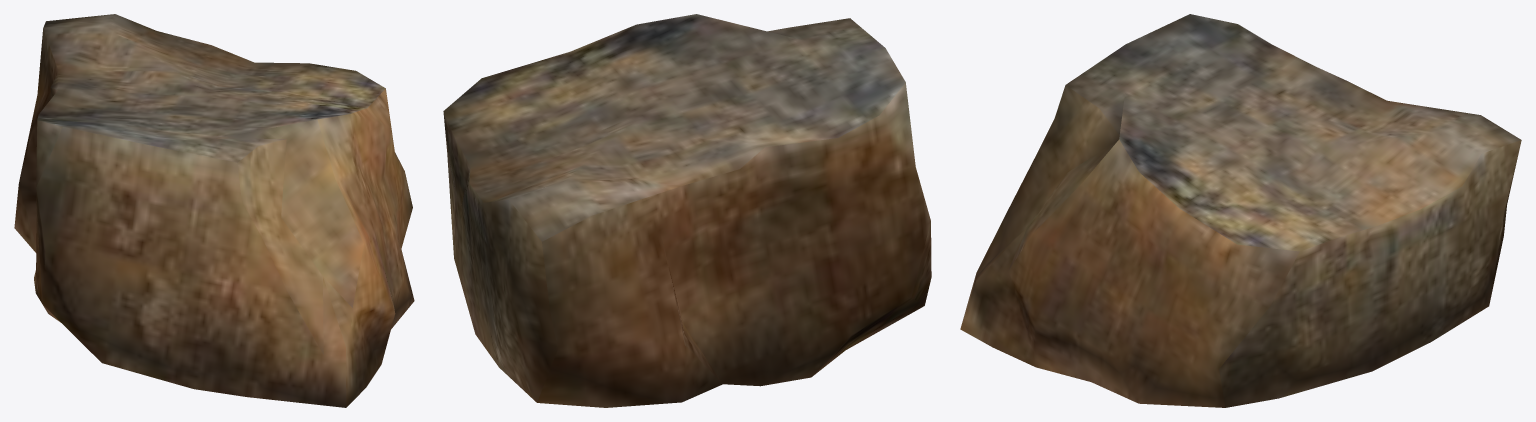
File: rock_b_far.glb
3 renders of one model, left to right at view 1: azimuth 30°, elevation 25°; view 2: azimuth 150°, elevation 25°; view 3: azimuth 270°, elevation 25°, orthographic. The views are drawn at different scales.
Parts seen in each view (by area): view 1: rock_b_far; view 2: rock_b_far; view 3: rock_b_far.
Boxes of the visible parts, x1,y1,x2,y2 form: rock_b_far: (14, 14, 414, 407); rock_b_far: (443, 14, 931, 407); rock_b_far: (960, 14, 1521, 407).
Bounding box in the file's own units: 2.4 × 1.48 × 3.07.
Materials: 1 (1 with a texture image).
